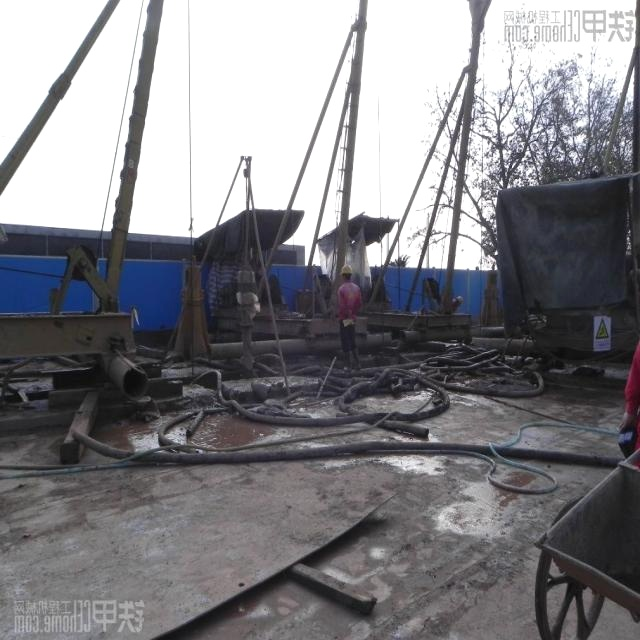Con_Casco: (342, 263, 354, 281)
Sin_Chaleco: (339, 282, 360, 327)
